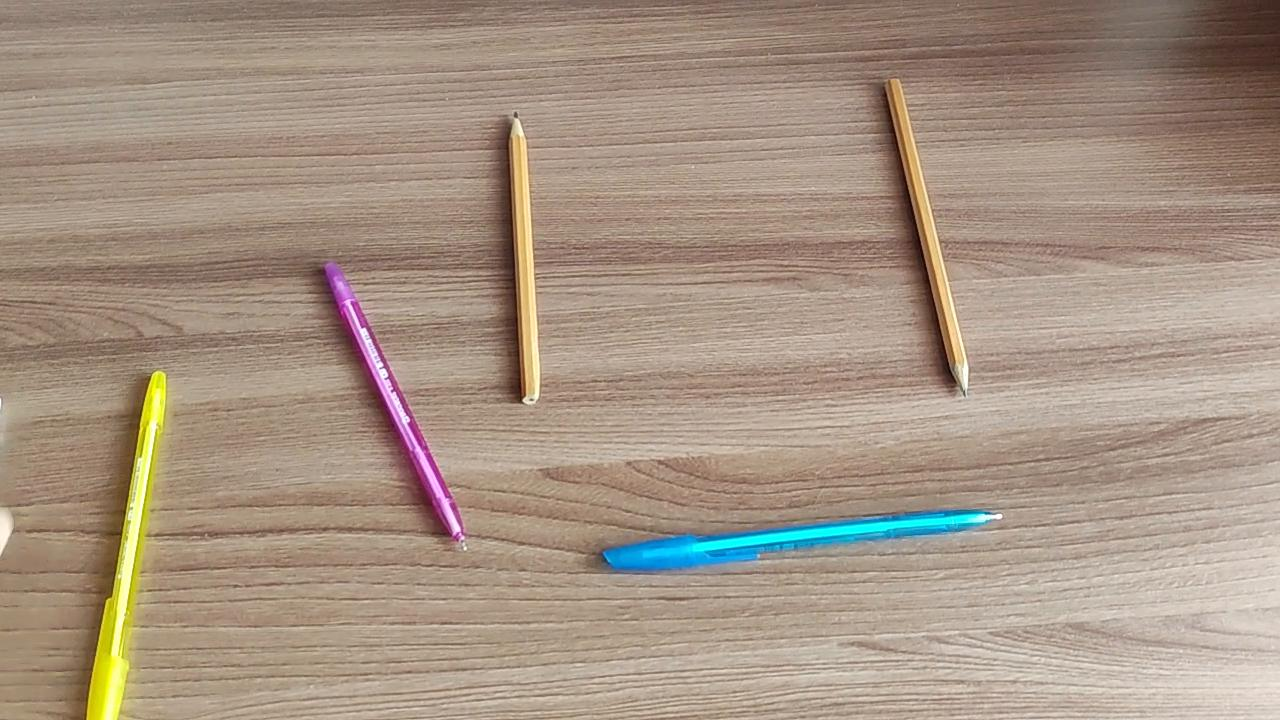pen: (321, 253, 472, 554), (84, 369, 173, 720), (597, 510, 1010, 575)
pencil: (884, 75, 973, 402), (503, 107, 544, 409)
